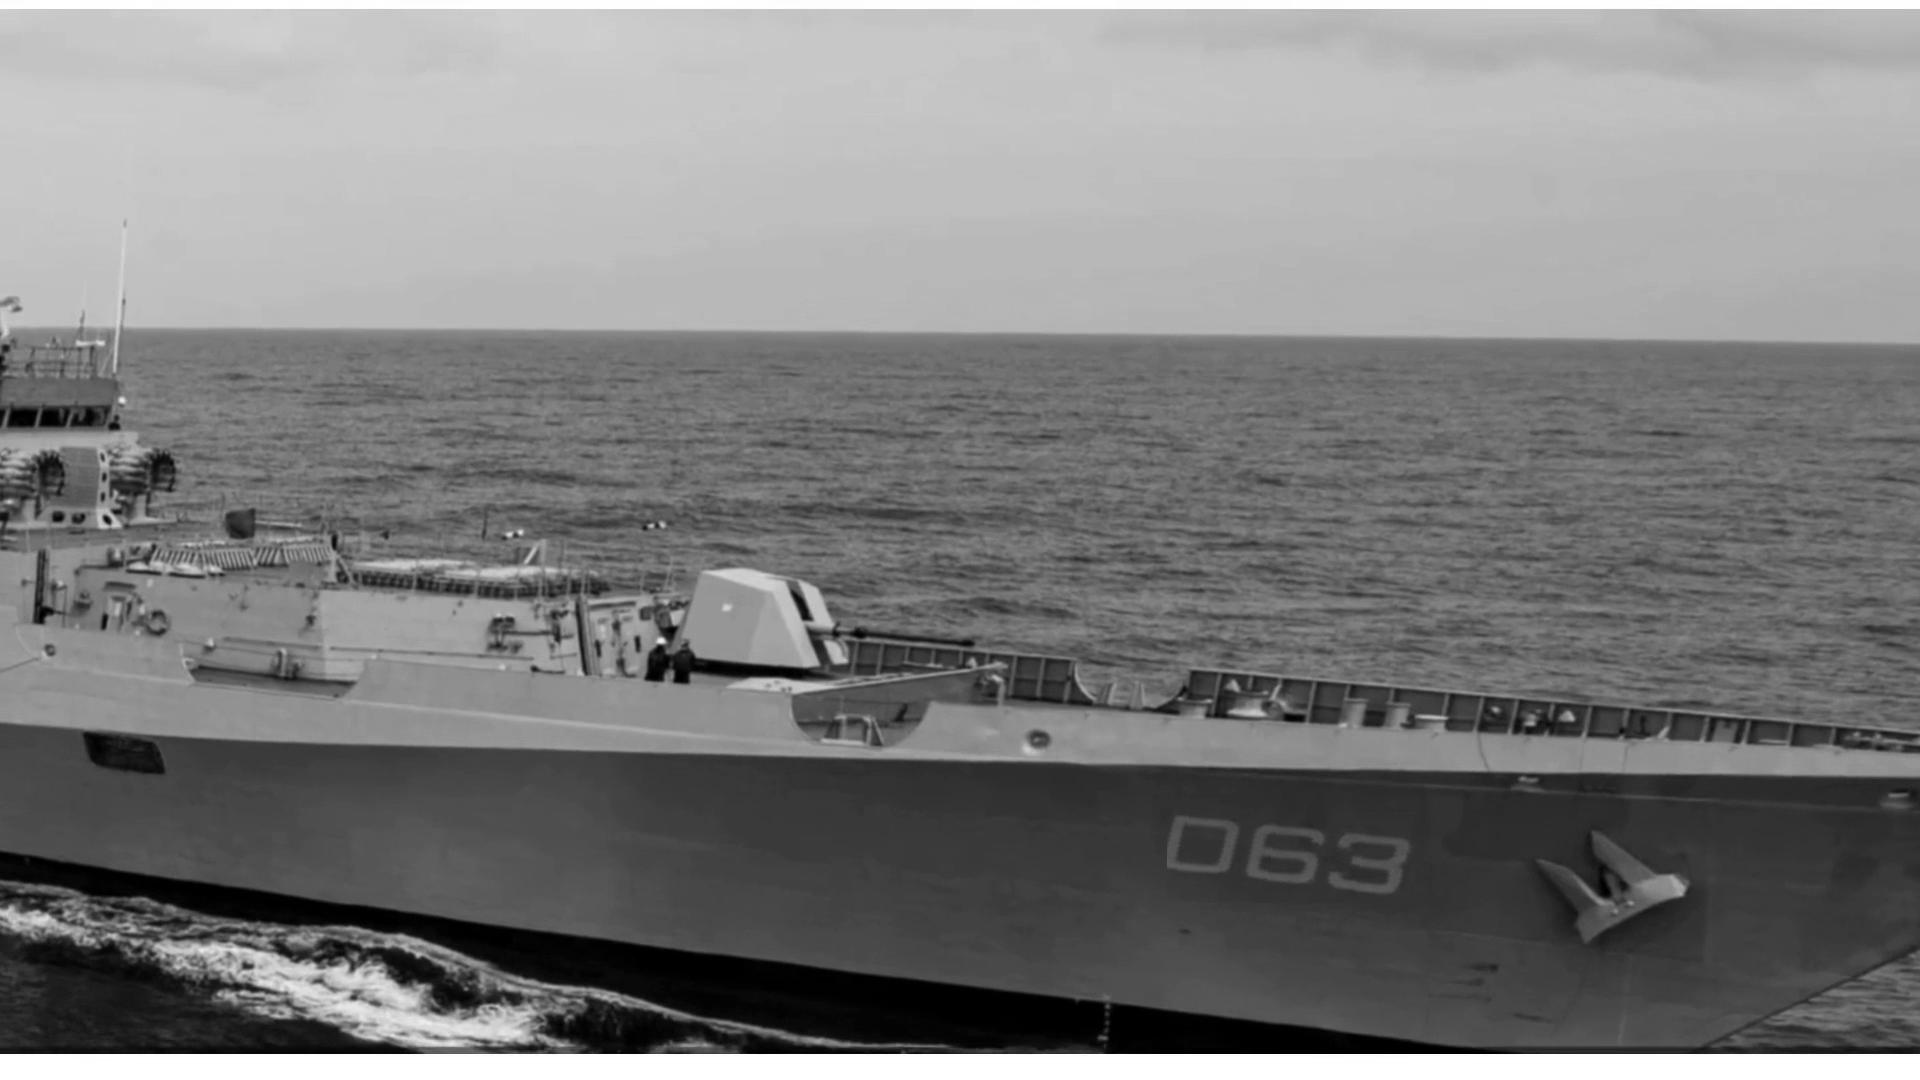OCR: (1167, 808, 1429, 903)
